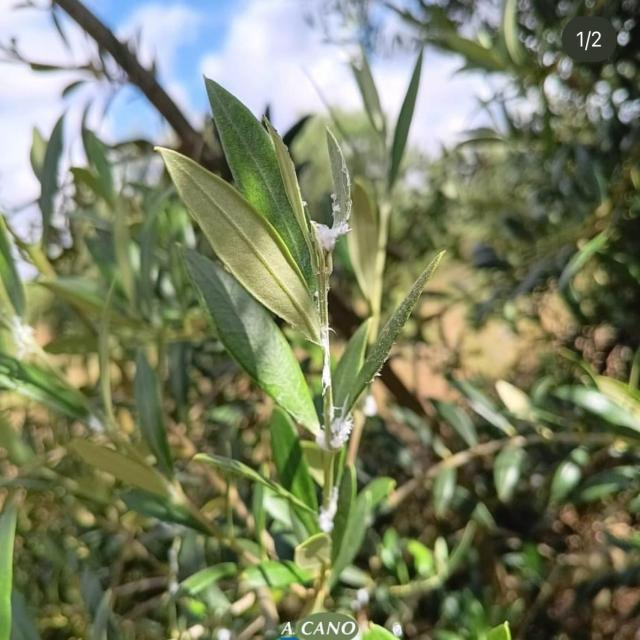Psyllid: (309, 126, 352, 303), (316, 393, 353, 450)
